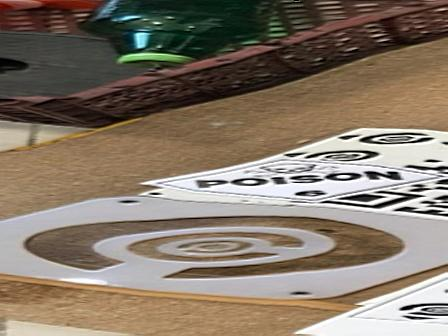poison: (133, 156, 448, 207)
